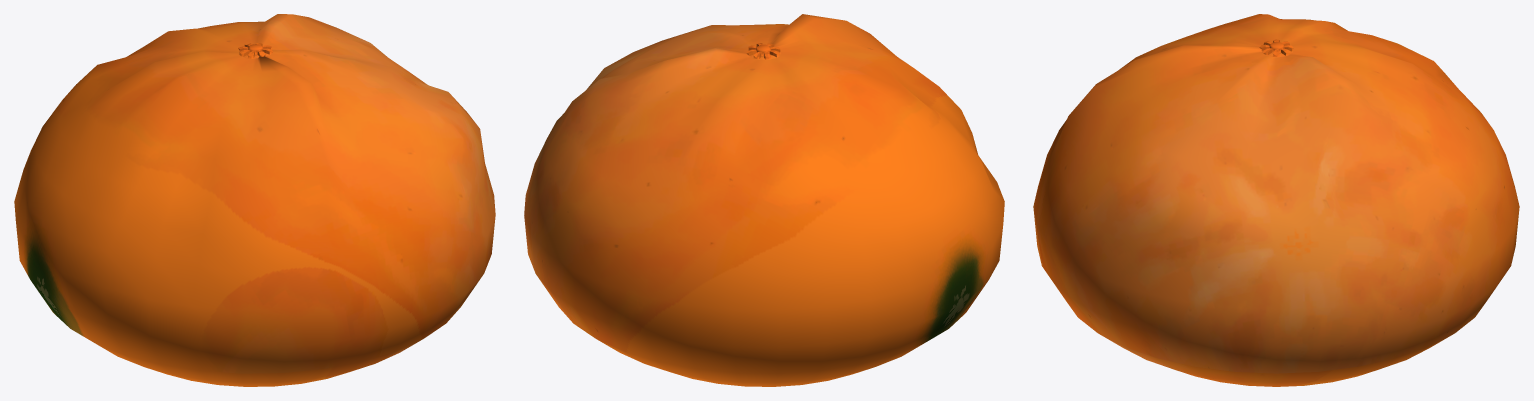
File: oOrange.fbx
The picture shows the model from 3 angles, left to right: view 1: azimuth 30°, elevation 25°; view 2: azimuth 150°, elevation 25°; view 3: azimuth 270°, elevation 25°; orthographic projection.
Visible parts, largest first — view 1: mikan; view 2: mikan; view 3: mikan.
Boxes of the visible parts, box(x1,y1,x2,y2) form: mikan: box(14, 14, 495, 386); mikan: box(524, 14, 1004, 386); mikan: box(1033, 14, 1519, 386).
Size of the model in its own units: 4.34 by 2.89 by 4.32.
